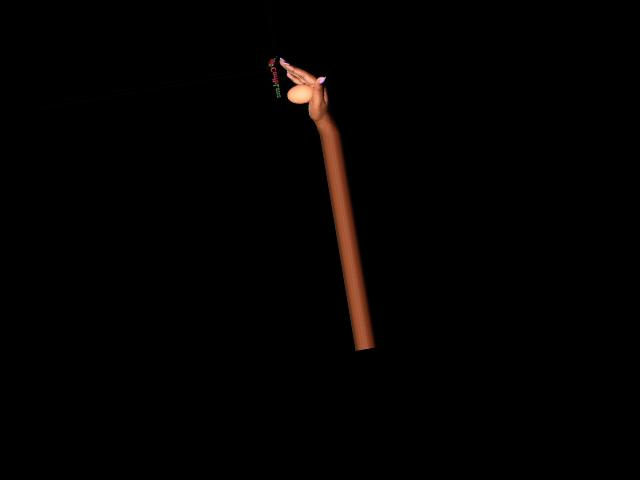egg: (285, 82, 314, 106)
